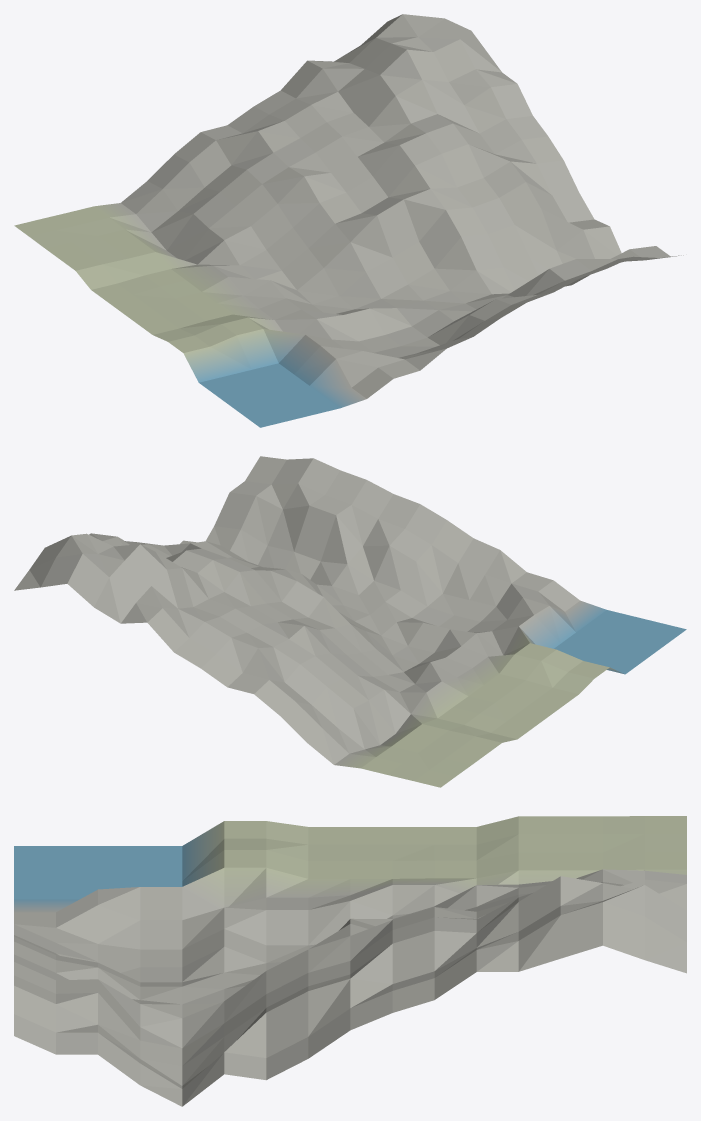
The picture shows the model from 3 angles, top to bottom: view 1: azimuth 30°, elevation 25°; view 2: azimuth 150°, elevation 25°; view 3: azimuth 270°, elevation 25°; orthographic projection. The views are drawn at different scales.
Bounding box in the file's own units: 32 × 11.04 × 32.
